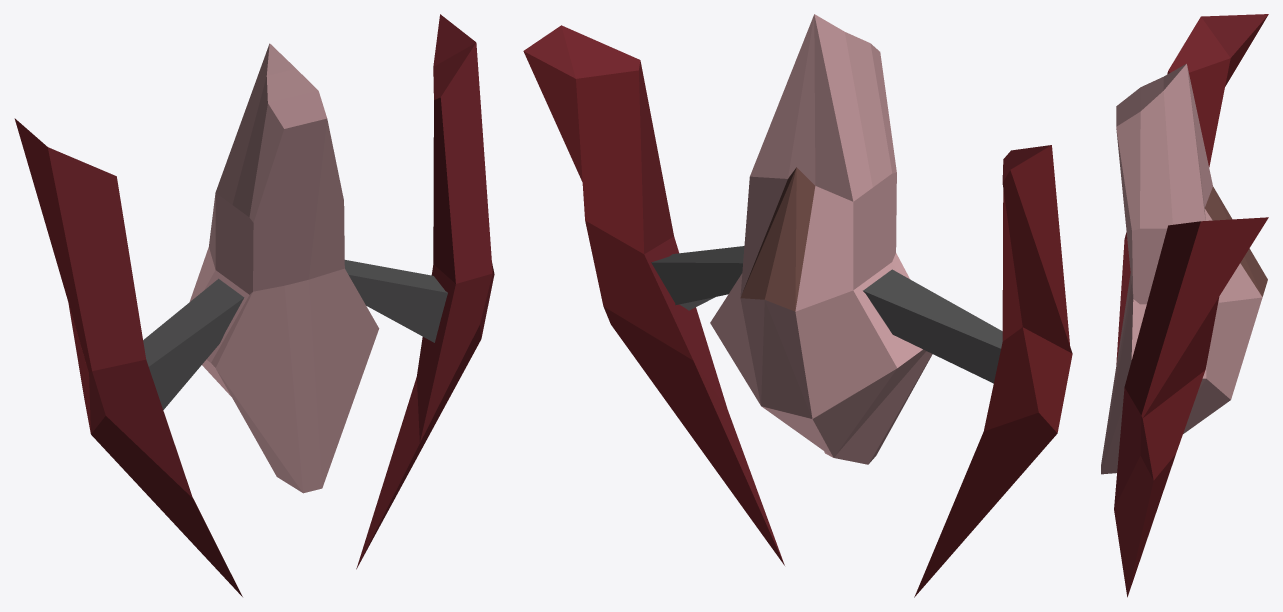
Rendered from LAST AIRSHIPS WIP.fbx.
3 views of the same model, side by side, from view 1: azimuth 30°, elevation 25°; view 2: azimuth 150°, elevation 25°; view 3: azimuth 270°, elevation 25° (orthographic). The views are drawn at different scales.
Parts seen in each view (by area): view 1: AirshipBait; view 2: AirshipBait; view 3: AirshipBait.
Part boxes in pixels (bbox=[...]): AirshipBait: bbox=[14, 14, 494, 596]; AirshipBait: bbox=[523, 14, 1072, 597]; AirshipBait: bbox=[1101, 14, 1268, 597].
Size of the model in its own units: 895 by 1035 by 310.
